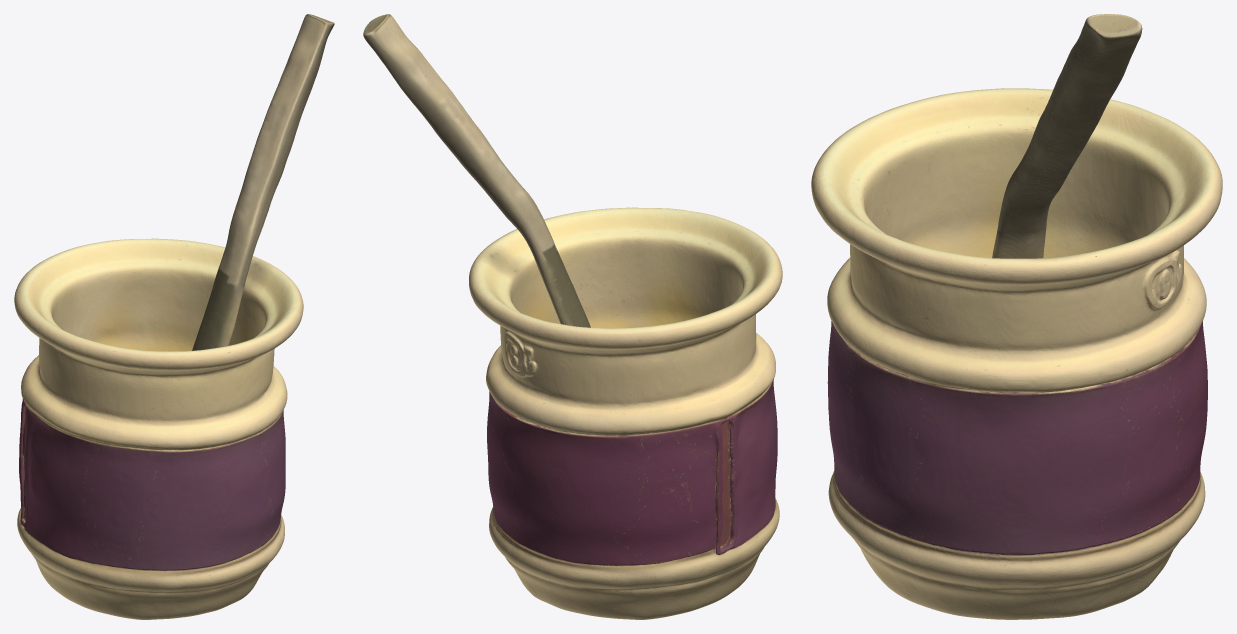
The model's file is mateurbano.glb.
3 renders of one model, left to right at view 1: azimuth 30°, elevation 25°; view 2: azimuth 150°, elevation 25°; view 3: azimuth 270°, elevation 25°, orthographic. The views are drawn at different scales.
Parts seen in each view (by area): view 1: world; view 2: world; view 3: world.
Part boxes in pixels (left/top/right/bottom): world: left=14, top=14, right=334, bottom=619; world: left=363, top=14, right=782, bottom=619; world: left=811, top=14, right=1222, bottom=619.
Size of the model in its own units: 0.1023 by 0.145 by 0.0791.
Materials: 1 (1 with a texture image).
